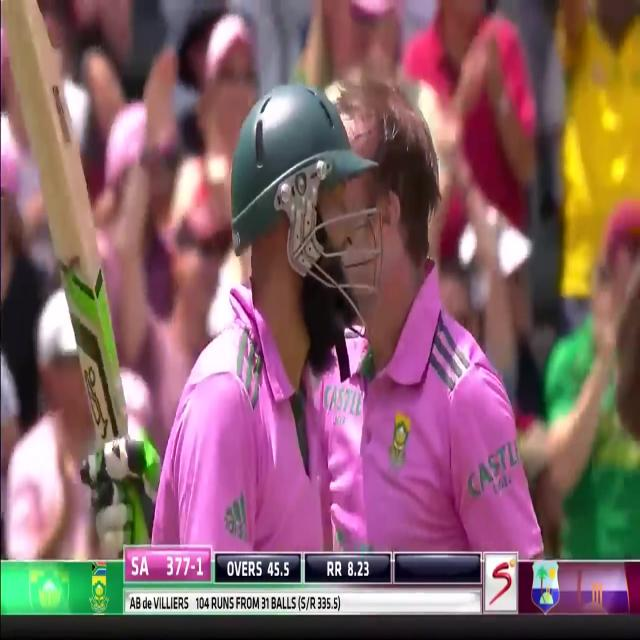Ball: (296, 68, 537, 552), (153, 82, 384, 546)
